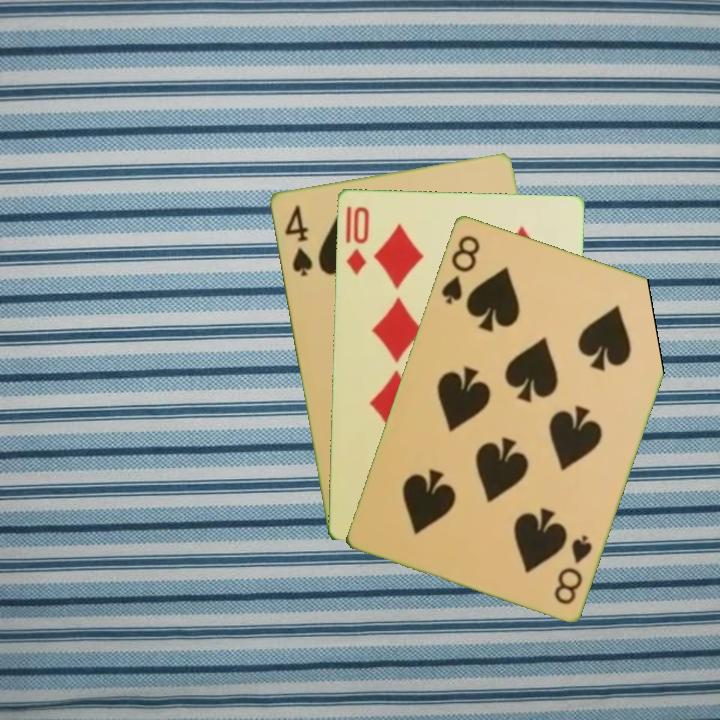10d: (341, 201, 372, 278)
4s: (281, 201, 315, 279)
8s: (437, 231, 483, 307), (550, 530, 595, 607)
